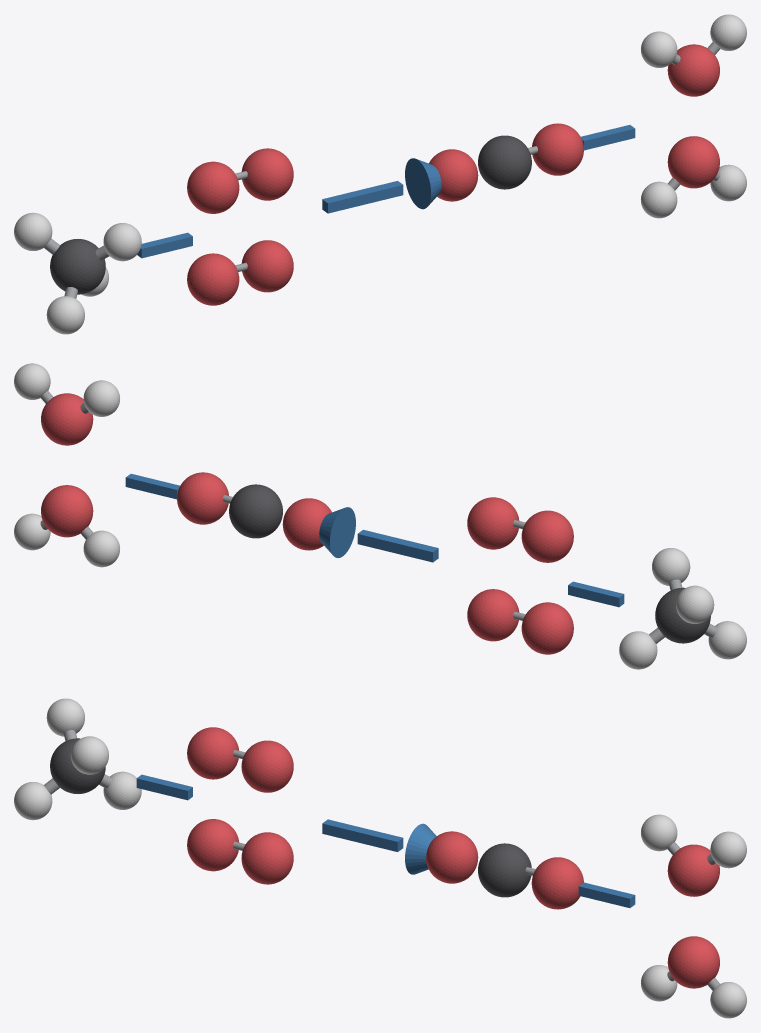
Rendered from reacao_quimica_Q_LAB_RA_FINAL.glb.
3 renders of one model, top to bottom at view 1: azimuth 30°, elevation 25°; view 2: azimuth 150°, elevation 25°; view 3: azimuth 330°, elevation 25°, orthographic.
Parts seen in each view (by area): view 1: CH4_C, CO2_C, O2_B_O1, O2_A_O1, H2O_B_O, O2_A_O2, CO2_O2, O2_B_O2, H2O_A_O, CO2_O1, reaction_arrow_head, reaction_arrow (+9 smaller); view 2: CO2_C, O2_A_O1, O2_B_O1, H2O_B_O, O2_A_O2, O2_B_O2, CO2_O2, H2O_A_O, CO2_O1, CH4_C, reaction_arrow_head, reaction_arrow (+10 smaller); view 3: CO2_C, O2_B_O2, O2_A_O2, CO2_O1, H2O_B_O, O2_A_O1, O2_B_O1, CO2_O2, H2O_A_O, CH4_C, reaction_arrow, CH4_H0 (+10 smaller).
Boxes of the visible parts, box(x1,y1,x2,y2) form: CH4_C: box(50, 239, 105, 294); CO2_C: box(478, 135, 531, 189); O2_B_O1: box(187, 253, 239, 305); O2_A_O1: box(187, 161, 239, 213); H2O_B_O: box(667, 136, 719, 188); O2_A_O2: box(241, 148, 293, 200); CO2_O2: box(532, 123, 583, 175); O2_B_O2: box(241, 240, 293, 292); H2O_A_O: box(667, 44, 719, 96); CO2_O1: box(429, 149, 478, 201); reaction_arrow_head: box(405, 158, 441, 209); reaction_arrow: box(322, 181, 403, 213); CO2_C: box(229, 484, 282, 538); O2_A_O1: box(521, 510, 573, 562); O2_B_O1: box(521, 602, 573, 654); H2O_B_O: box(41, 485, 93, 537); O2_A_O2: box(467, 497, 519, 549); O2_B_O2: box(467, 589, 519, 641); CO2_O2: box(177, 472, 228, 524); H2O_A_O: box(41, 393, 93, 445); CO2_O1: box(282, 498, 331, 550); CH4_C: box(655, 587, 710, 643); reaction_arrow_head: box(319, 507, 355, 557); reaction_arrow: box(357, 529, 438, 562); CO2_C: box(478, 843, 531, 897); O2_B_O2: box(241, 832, 293, 884); O2_A_O2: box(241, 740, 293, 792); CO2_O1: box(426, 831, 478, 883); H2O_B_O: box(667, 936, 719, 988); O2_A_O1: box(187, 727, 238, 779); O2_B_O1: box(187, 819, 239, 871); CO2_O2: box(531, 857, 583, 909); H2O_A_O: box(667, 844, 719, 896); CH4_C: box(50, 738, 105, 793); reaction_arrow: box(322, 819, 403, 851); CH4_H0: box(70, 736, 108, 774).
Size of the model in its own units: 9.42 by 2.32 by 1.19.
